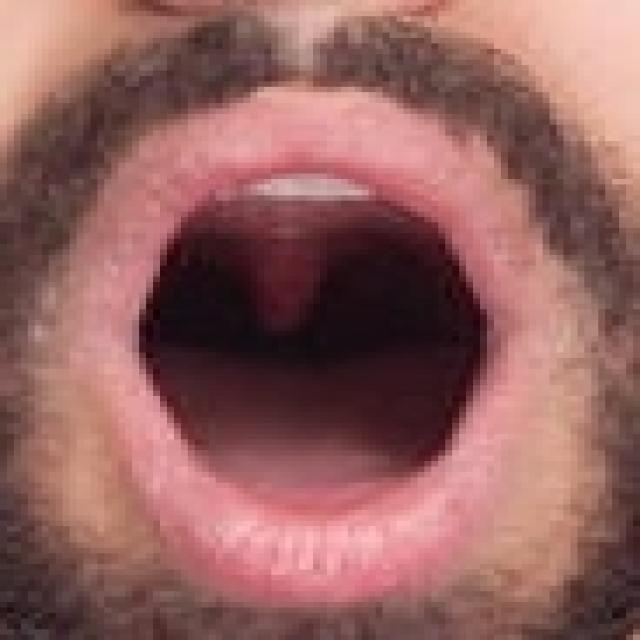open-mouth: (64, 80, 564, 618)
